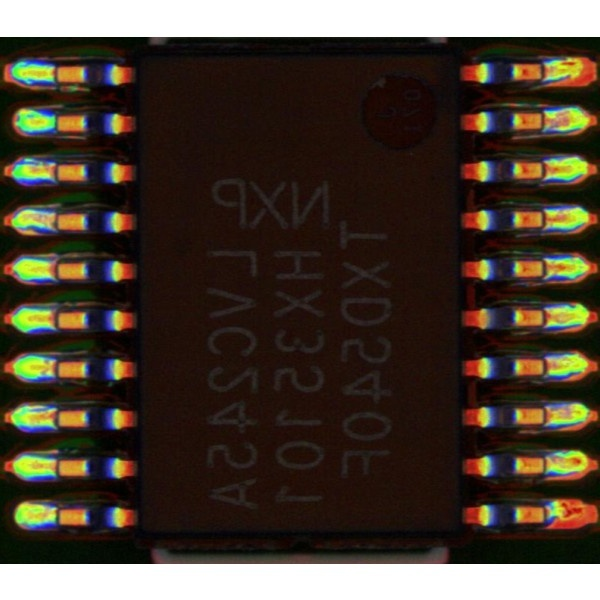Bad_podu: (523, 262, 566, 276), (34, 312, 75, 325), (528, 115, 565, 128), (34, 363, 71, 376), (33, 411, 70, 424), (37, 264, 73, 277), (530, 360, 563, 374), (529, 312, 567, 324), (527, 163, 560, 176), (533, 457, 564, 470), (530, 64, 560, 77), (39, 462, 74, 473), (37, 69, 69, 81), (36, 166, 70, 177), (530, 212, 561, 224), (530, 410, 559, 422), (38, 216, 65, 227)
